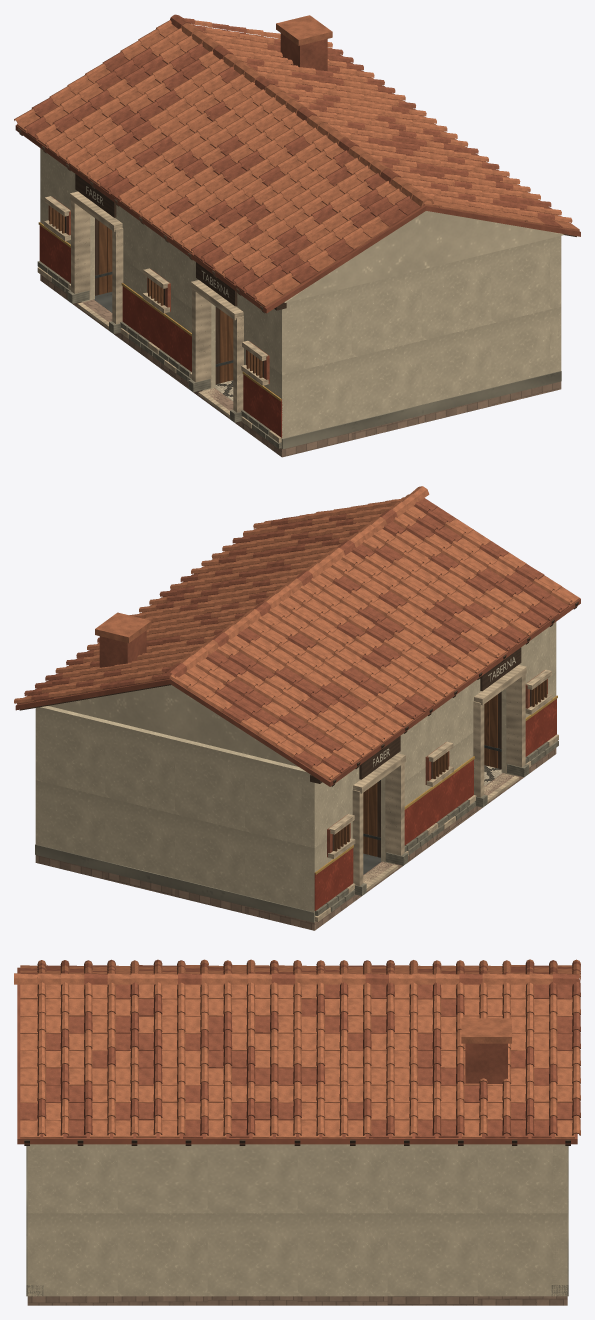
The model's file is roman_workshop.glb.
3 views of the same model, one above another, from view 1: azimuth 30°, elevation 25°; view 2: azimuth 150°, elevation 25°; view 3: azimuth 270°, elevation 25° (orthographic). The views are drawn at different scales.
Parts seen in each view (by area): view 1: Workshop_Tegulae, Workshop_Enclosure, Workshop_Front, Blacksmith; view 2: Workshop_Tegulae, Workshop_Enclosure, Workshop_Front, Blacksmith; view 3: Workshop_Tegulae, Workshop_Enclosure, Blacksmith.
Part boxes in pixels (x1=…): Workshop_Tegulae: x1=14, y1=14, x2=580, y2=313; Workshop_Enclosure: x1=40, y1=149, x2=563, y2=457; Workshop_Front: x1=37, y1=148, x2=294, y2=448; Blacksmith: x1=276, y1=15, x2=332, y2=70; Workshop_Tegulae: x1=14, y1=486, x2=580, y2=786; Workshop_Enclosure: x1=35, y1=622, x2=556, y2=930; Workshop_Front: x1=301, y1=622, x2=558, y2=921; Blacksmith: x1=95, y1=612, x2=151, y2=671; Workshop_Tegulae: x1=14, y1=959, x2=580, y2=1145; Workshop_Enclosure: x1=26, y1=1144, x2=568, y2=1305; Blacksmith: x1=461, y1=1018, x2=511, y2=1083.
Bounding box in the file's own units: 7.26 × 5.02 × 10.08.
Materials: 1 (1 with a texture image).
